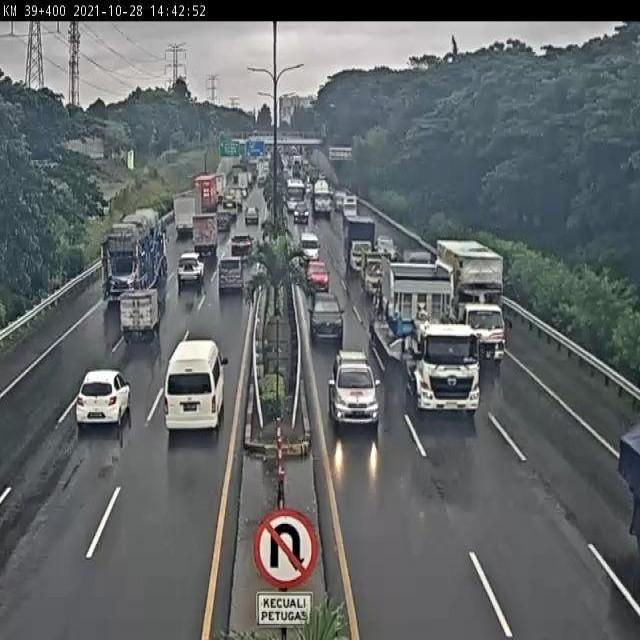big truck: (106, 205, 173, 291)
bus-s-: (164, 342, 226, 434)
car: (330, 352, 378, 427), (74, 370, 131, 430), (310, 290, 346, 342), (219, 252, 245, 289), (177, 251, 205, 285), (306, 260, 330, 292)
small truck: (117, 293, 160, 340)
truck-l-: (436, 238, 507, 362)
truck-m-: (344, 216, 377, 275), (360, 251, 386, 297)
truck-xl-: (384, 276, 481, 416)
